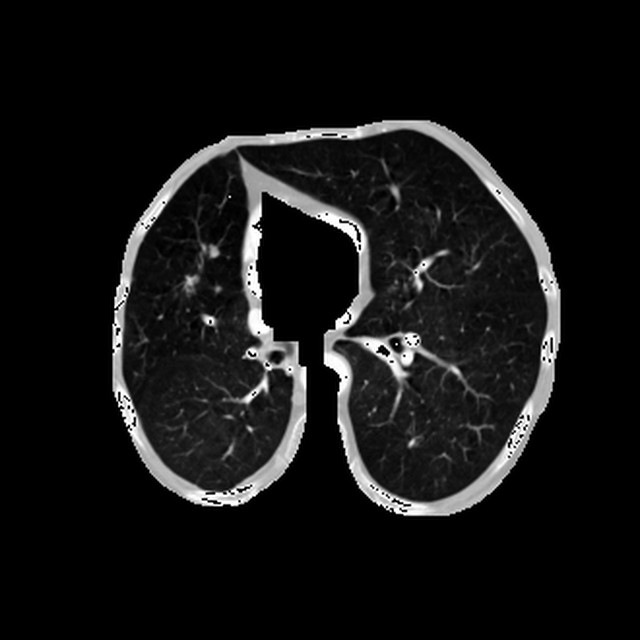PN: (206, 242, 221, 258)
